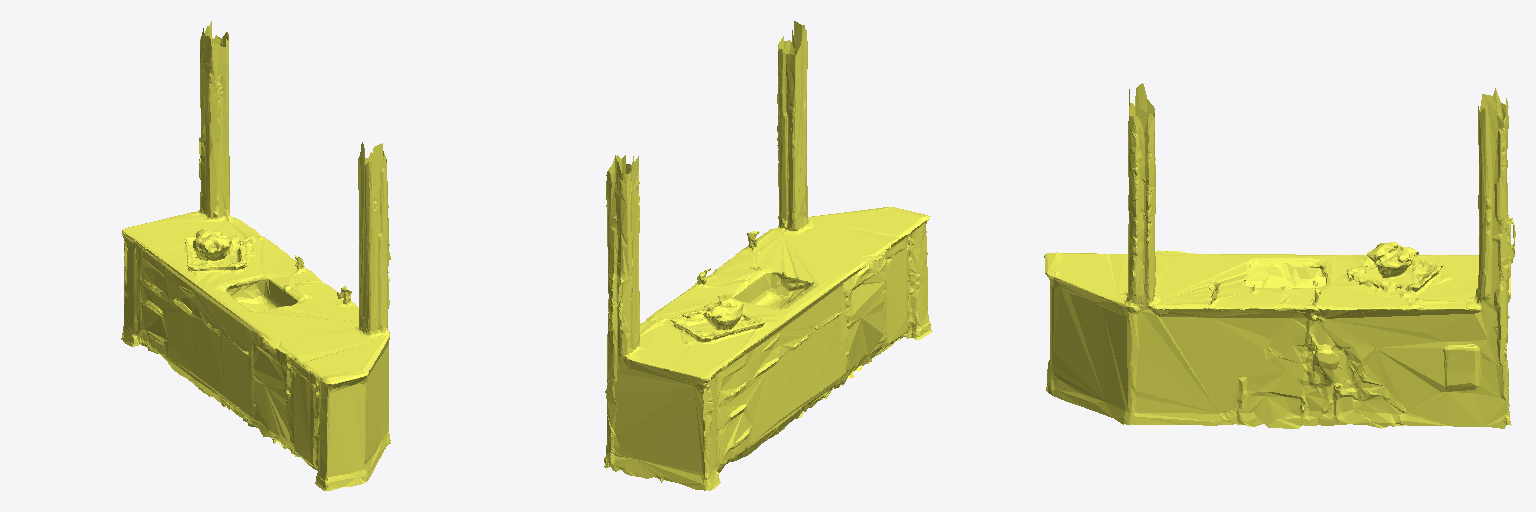
URDF robot description (env.urdf):
<?xml version="0.0" ?>
<robot name="env.urdf">
  <link name="baseLink">
    <contact>
      <lateral_friction value="1.0"/>
      <rolling_friction value="0.0"/>
      <contact_cfm value="0.0"/>
      <contact_erp value="1.0"/>
    </contact>
    <inertial>
      <origin rpy="0 0 0" xyz="0.0 0.02 0.0"/>
       <mass value="0"/>
       <inertia ixx="1" ixy="0" ixz="0" iyy="1" iyz="0" izz="1"/>
    </inertial>
    <visual>
      <origin rpy="0 0 0" xyz="0 0 0"/>
      <geometry>
        <mesh filename="kitchen_counter.obj" scale="1 1 1"/>
      </geometry>
       <material name="yellow">
        <color rgba="1 1 0.4 1"/>
      </material>
    </visual>
    <collision>
      <origin rpy="0 0 0" xyz="0 0 0"/>
      <geometry>
	 	<mesh filename="kitchen_counter.obj" scale="1 1 1"/>
      </geometry>
    </collision>
  </link>
</robot>

--- Render facts (derived) ---
The picture shows the robot from 3 angles, left to right: view 1: azimuth 30°, elevation 25°; view 2: azimuth 150°, elevation 25°; view 3: azimuth 270°, elevation 25°; orthographic projection.
Model env.urdf with 1 links and 0 joints (none), rooted at baseLink, posed every joint at zero.
Links seen in each view (by area): view 1: baseLink; view 2: baseLink; view 3: baseLink.
Boxes of the visible links, x1,y1,x2,y2 form: baseLink: (121,21,390,490); baseLink: (604,21,931,490); baseLink: (1044,83,1515,428).
Size in the robot's own frame: 0.9255 by 3.1 by 2.43 metres.
Meshes: 1 distinct files referenced, 1 mesh visuals loaded (1 OBJ).